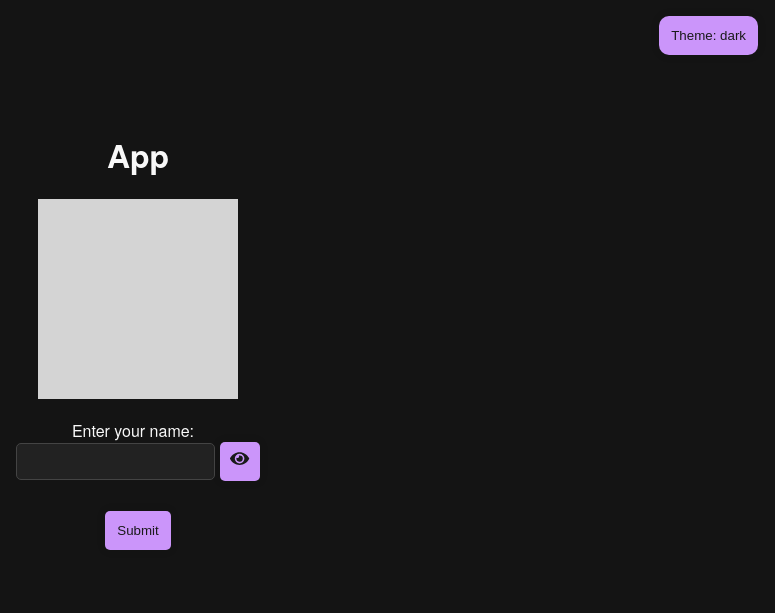
Test: Main Component › submits the input correctly
Step 1. Type "Alice" into the field with test id "user-input" showing "Enter your name:" → (116, 461), box [16,443,215,480]
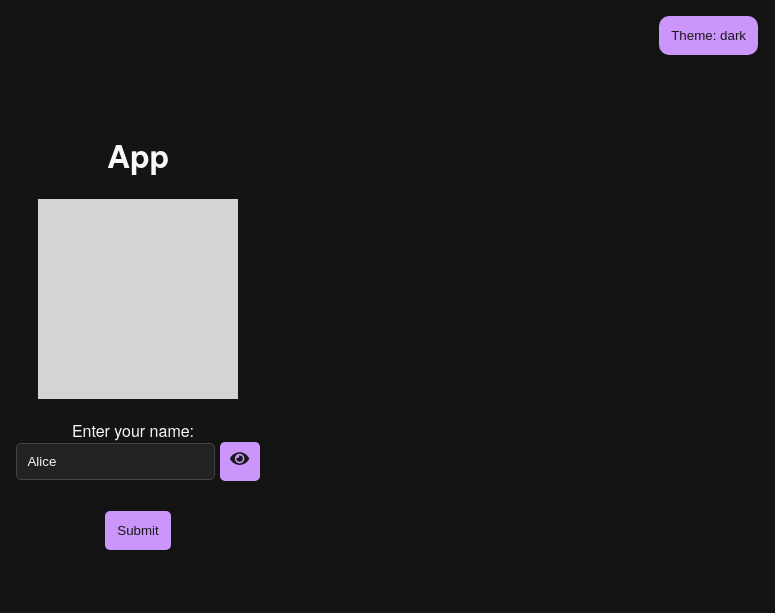
Step 2. Click the button with test id "greet-button" → (138, 530), box [105,510,171,550]
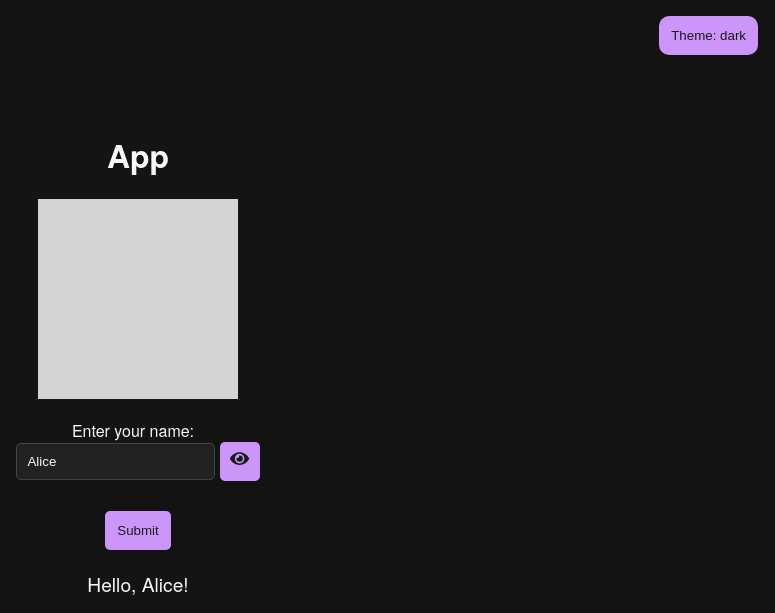
Expected: the text with test id "result" reads "Hello, Alice!", [87,570,189,596]
